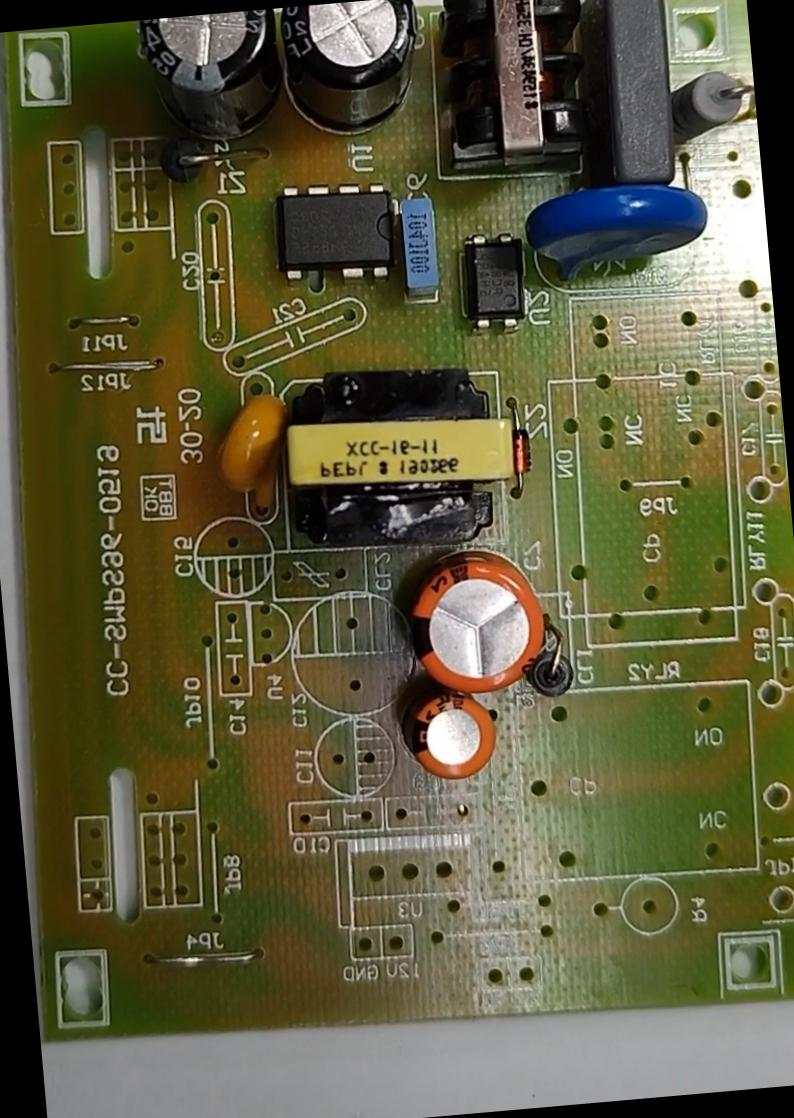Cap1: (359, 526, 562, 699)
Cap2: (389, 679, 510, 800)
Cap3: (273, 0, 445, 156)
Cap4: (132, 10, 292, 164)
MOSFET: (259, 174, 421, 295), (731, 152, 735, 153)
Mov: (514, 167, 729, 297)
Resistor: (658, 55, 759, 160)
Transformer: (271, 348, 554, 569), (411, 0, 613, 190)
